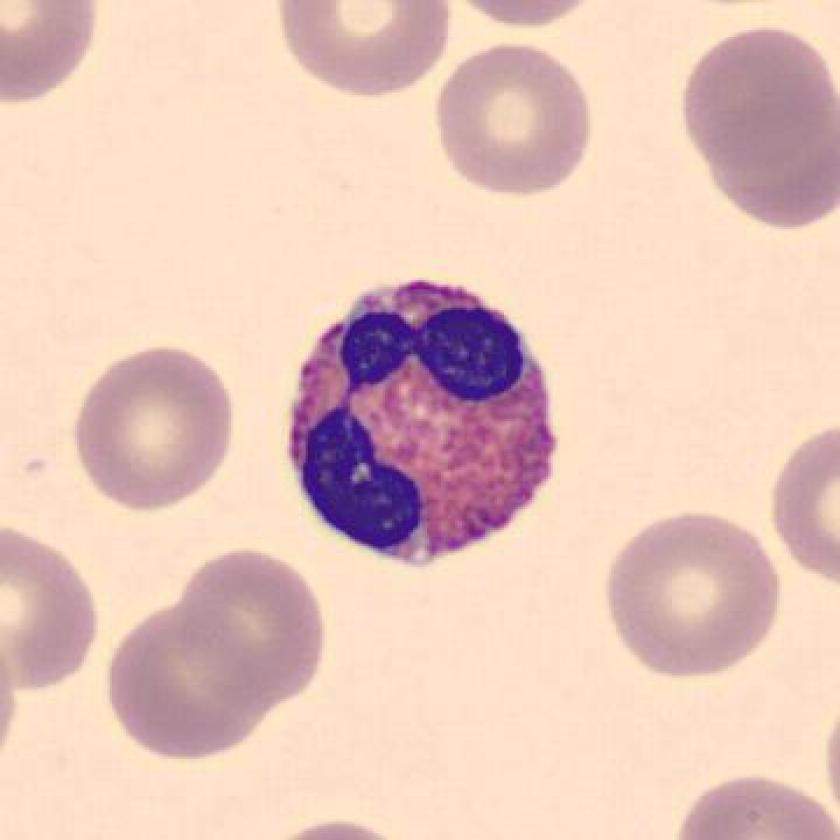eosinophil: (272, 274, 575, 575)
